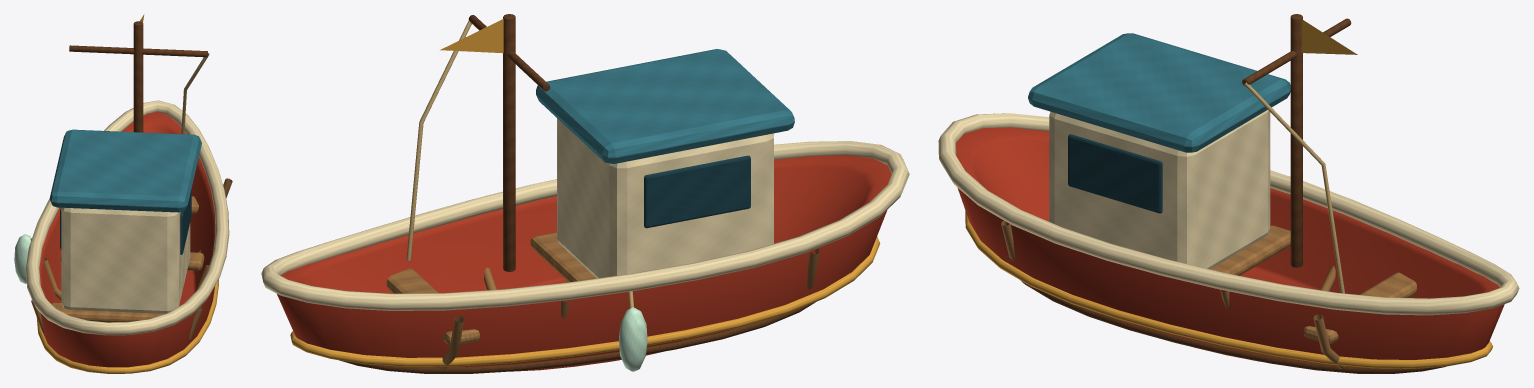
File: Boat_Fishing.fbx
3 renders of one model, left to right at view 1: azimuth 30°, elevation 25°; view 2: azimuth 150°, elevation 25°; view 3: azimuth 270°, elevation 25°, orthographic. The views are drawn at different scales.
Parts seen in each view (by area): view 1: Boat_Fishing; view 2: Boat_Fishing; view 3: Boat_Fishing.
Part boxes in pixels (left/top/right/bottom): Boat_Fishing: left=14, top=14, right=232, bottom=373; Boat_Fishing: left=261, top=14, right=909, bottom=373; Boat_Fishing: left=938, top=14, right=1519, bottom=373.
Bounding box in the file's own units: 510 × 656 × 410.
